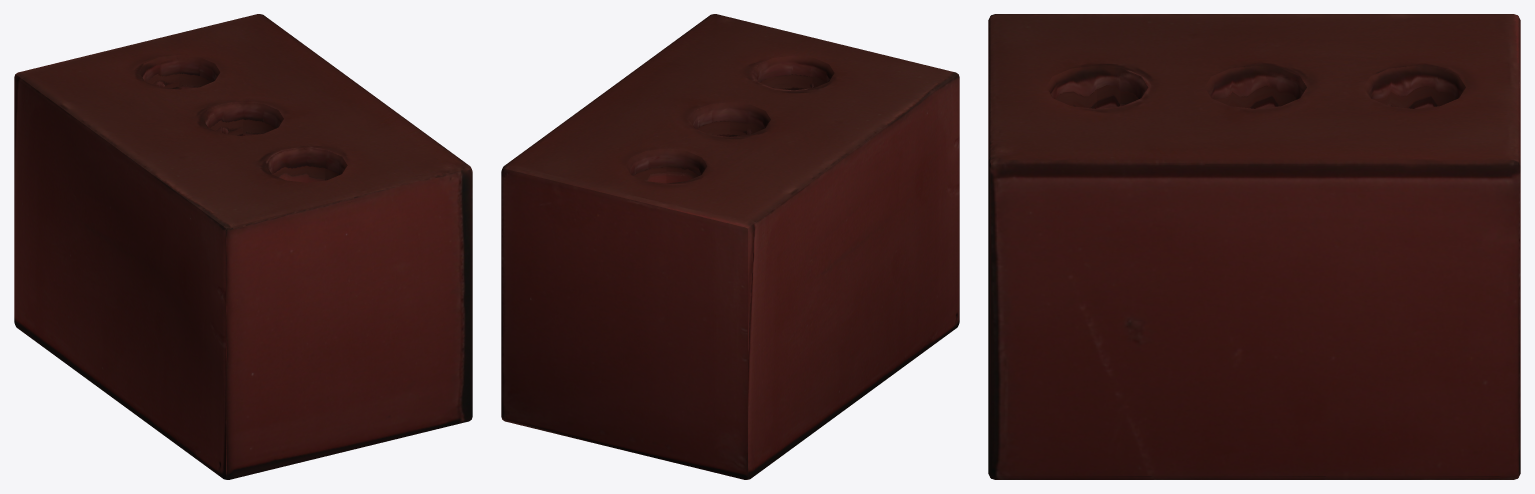
Rendered from 061_foam_brick.dae.
The picture shows the model from 3 angles, left to right: view 1: azimuth 30°, elevation 25°; view 2: azimuth 150°, elevation 25°; view 3: azimuth 270°, elevation 25°; orthographic projection. The views are drawn at different scales.
Visible parts, largest first — view 1: 061_foam_brick; view 2: 061_foam_brick; view 3: 061_foam_brick.
Part boxes in pixels (<box>): 061_foam_brick: <box>14,14,472,479</box>; 061_foam_brick: <box>501,14,959,479</box>; 061_foam_brick: <box>988,14,1520,479</box>.
Bounding box in the file's own units: 0.0504 × 0.0745 × 0.0493.
Materials: 1 (1 with a texture image).
